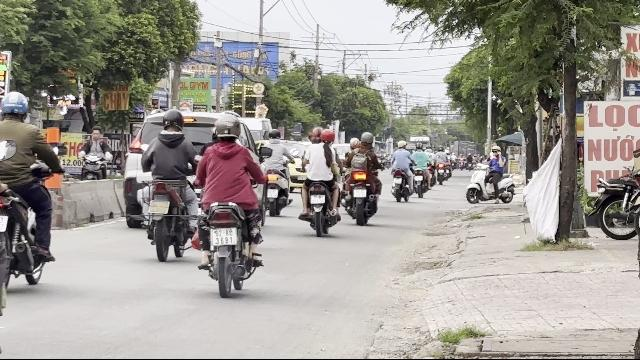helmet: (212, 111, 242, 143), (0, 90, 30, 122), (160, 109, 184, 135), (321, 128, 335, 144), (308, 127, 322, 142), (360, 131, 374, 145)
licenseplate: (212, 228, 236, 246), (149, 201, 169, 213), (311, 195, 325, 203)
motorcyclist: (192, 111, 268, 295), (1, 90, 62, 292), (136, 107, 200, 260), (297, 126, 341, 234), (342, 131, 382, 223)
